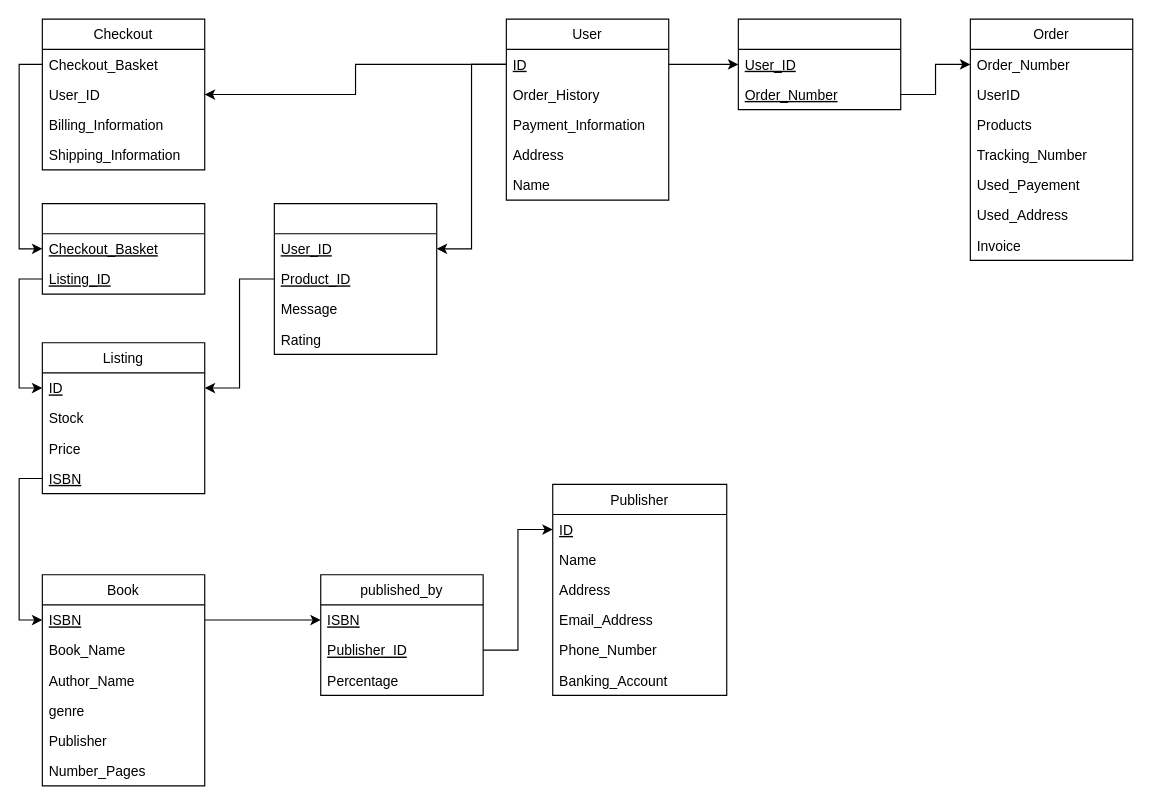
Some shapes in this 1152 by 805 pixel diagram are drawn without their labels. Here are the shapes that lost their labels. From the top down, the box of each, then its label:
(737, 18, 901, 110): orders_made
(41, 202, 205, 294): Contains
(273, 202, 437, 354): reviewed_by
